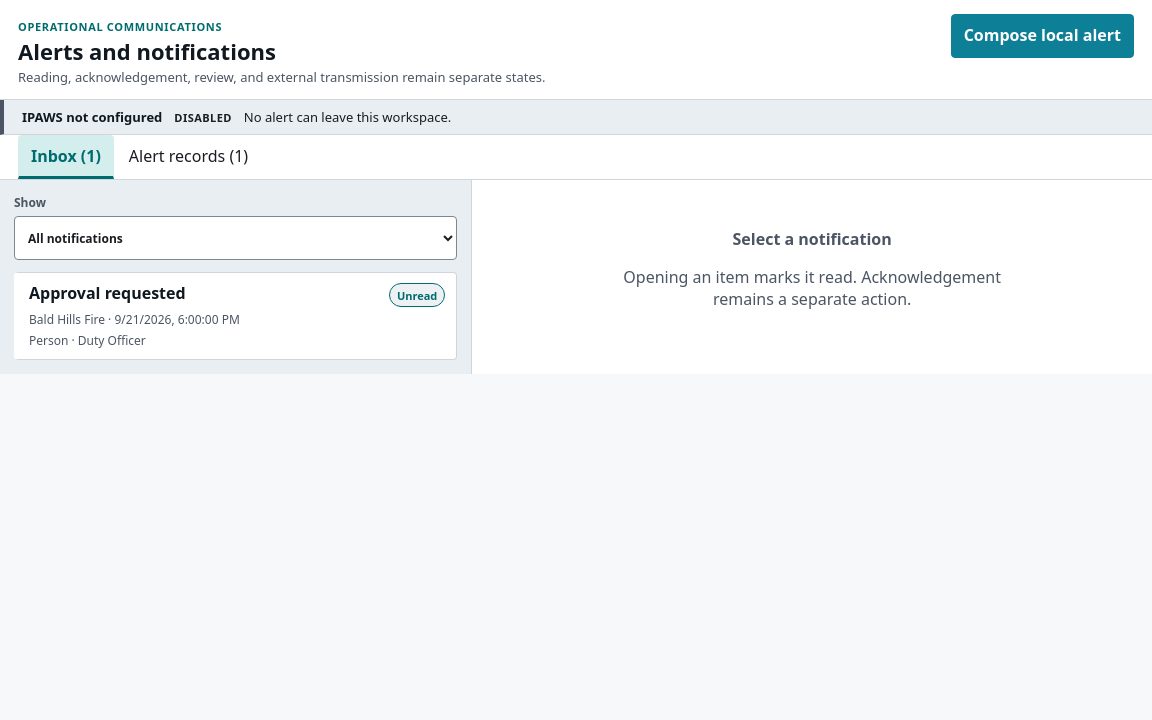
Scenario: notification states › keeps a notification unread when the read mutation fails
Click the button "Approval requested": (236, 316) x1=14 y1=272 x2=457 y2=360
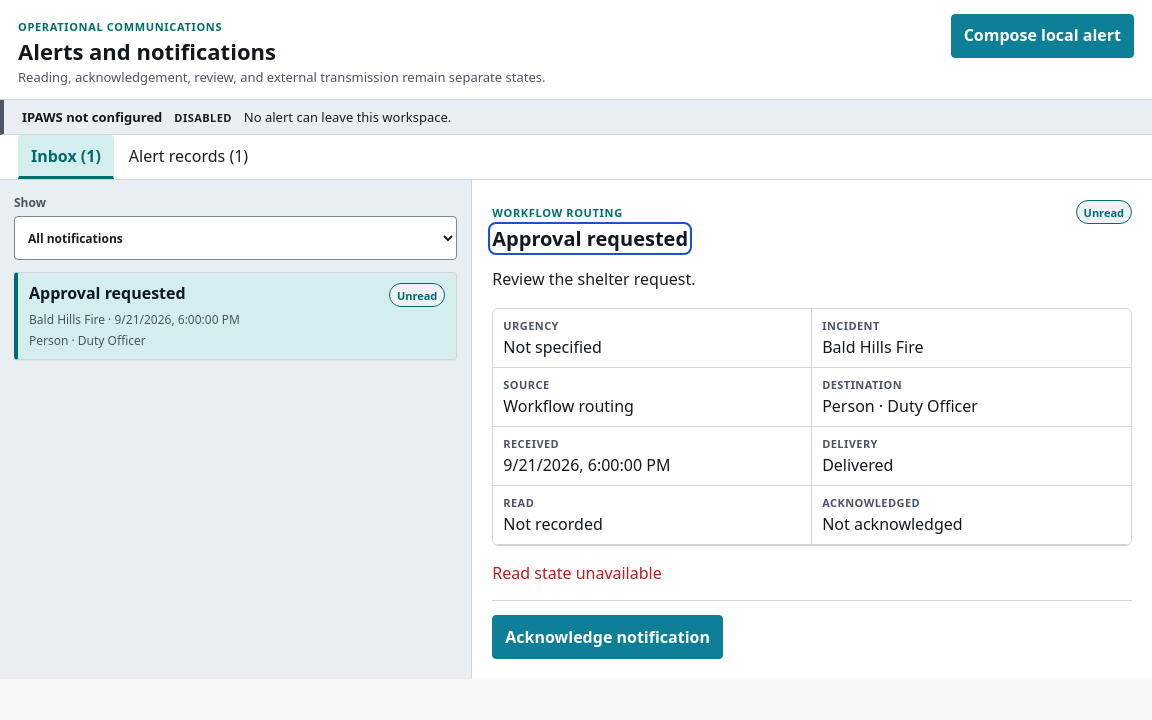
Expected: the text "Read state unavailable" is shown, x1=492 y1=562 x2=662 y2=584
